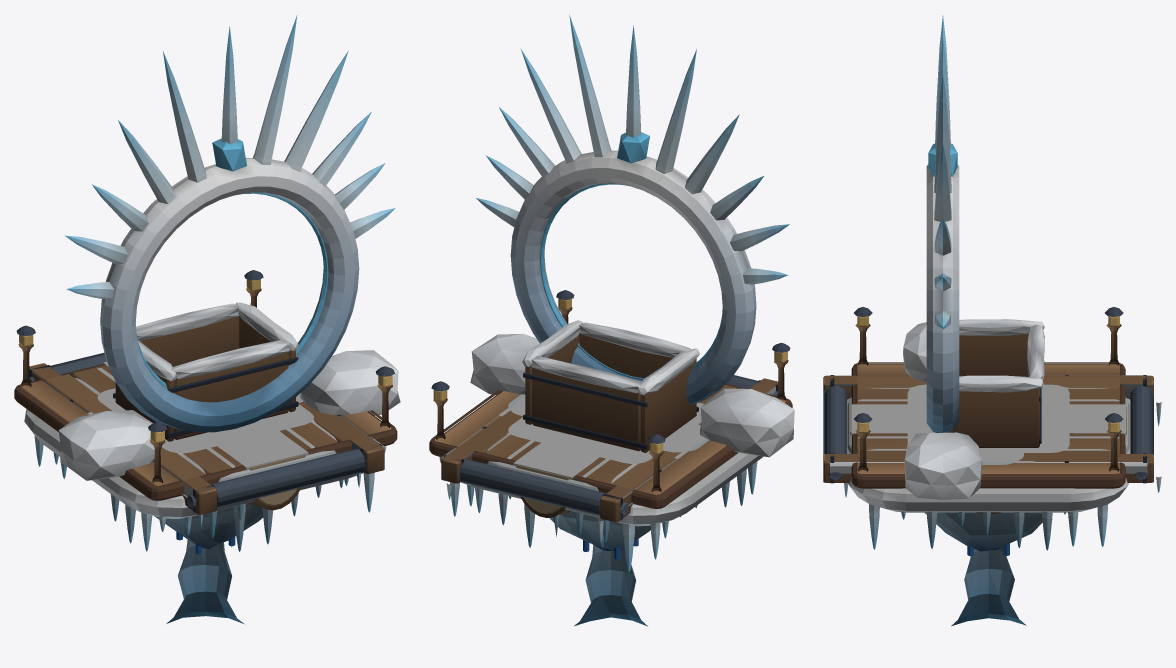
The model's file is glacier-5-D79kA3g8.glb.
3 renders of one model, left to right at view 1: azimuth 30°, elevation 25°; view 2: azimuth 150°, elevation 25°; view 3: azimuth 270°, elevation 25°, orthographic. The views are drawn at different scales.
Parts seen in each view (by area): view 1: portal_#0, pad_12x2x12#0, hopper_4.7x3#0, belt_9x1.5x14.5x0#0, beam_3x1.5x12#0, support_1_square#0, block_8x2x8#0, block_7x2x12#0; view 2: portal_#0, pad_12x2x12#0, hopper_4.7x3#0, belt_9x1.5x14.5x0#0, beam_3x1.5x12#0, support_1_square#0, block_8x2x8#0, block_7x2x12#0, block_10x2x4#0; view 3: pad_12x2x12#0, portal_#0, hopper_4.7x3#0, belt_9x1.5x14.5x0#0, beam_3x1.5x12#0, support_1_square#0, block_8x2x8#0, block_7x2x12#0.
Boxes of the visible parts, x1,y1,x2,y2 form: portal_#0: [58, 15, 400, 480]; pad_12x2x12#0: [14, 270, 397, 551]; hopper_4.7x3#0: [113, 302, 299, 441]; belt_9x1.5x14.5x0#0: [29, 353, 385, 527]; beam_3x1.5x12#0: [103, 361, 308, 510]; support_1_square#0: [166, 540, 244, 624]; block_8x2x8#0: [96, 388, 315, 455]; block_7x2x12#0: [74, 366, 337, 538]; portal_#0: [470, 14, 794, 457]; pad_12x2x12#0: [429, 290, 792, 573]; hopper_4.7x3#0: [522, 320, 699, 452]; belt_9x1.5x14.5x0#0: [440, 375, 778, 544]; beam_3x1.5x12#0: [513, 431, 614, 536]; support_1_square#0: [574, 545, 647, 626]; block_8x2x8#0: [507, 402, 704, 550]; block_7x2x12#0: [486, 435, 633, 543]; block_10x2x4#0: [510, 396, 705, 452]; pad_12x2x12#0: [846, 307, 1130, 551]; portal_#0: [903, 15, 982, 499]; hopper_4.7x3#0: [937, 319, 1044, 447]; belt_9x1.5x14.5x0#0: [823, 375, 1161, 497]; beam_3x1.5x12#0: [850, 404, 1126, 435]; support_1_square#0: [951, 546, 1026, 626]; block_8x2x8#0: [907, 384, 1069, 549]; block_7x2x12#0: [847, 388, 1129, 453].
Size of the model in its own units: 16.02 by 29.01 by 14.84.
